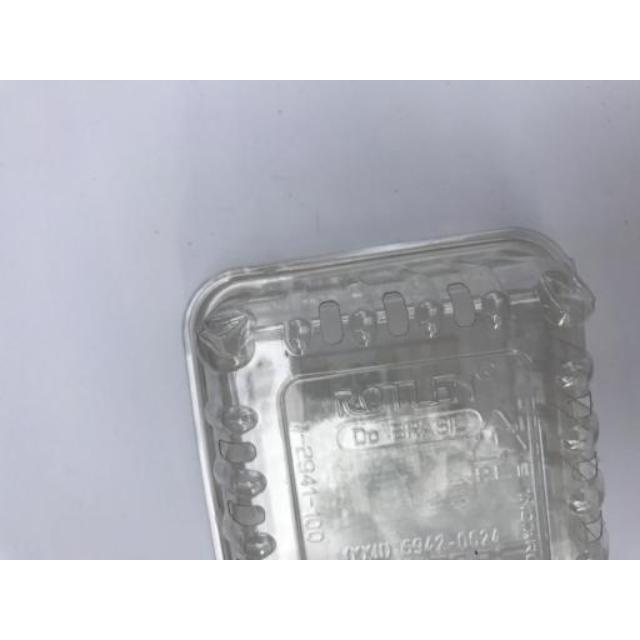plastic: (183, 230, 606, 558)
